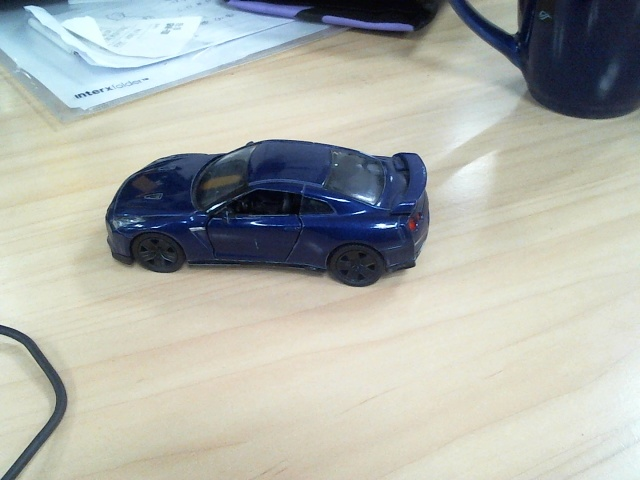car: (104, 139, 431, 288)
